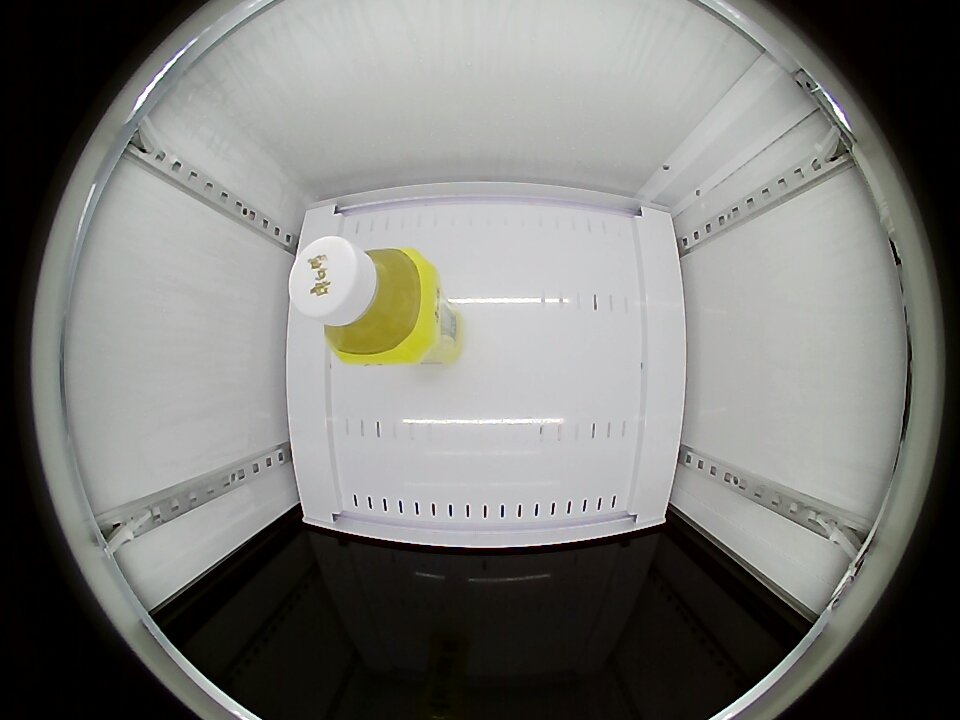bingtangxueli: (290, 235, 438, 363)
